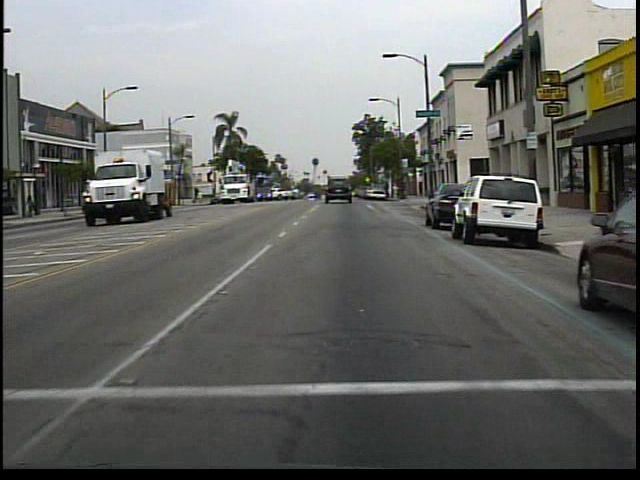person: (30, 193, 40, 220)
